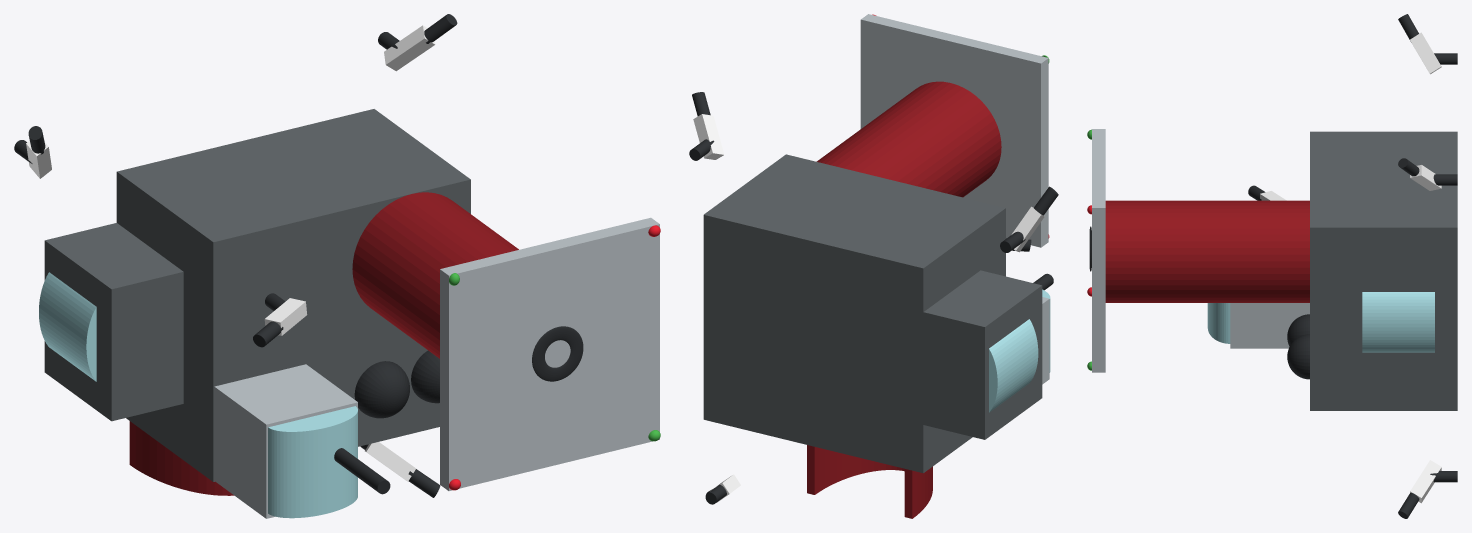
The model's file is tinker.obj.
3 views of the same model, side by side, from view 1: azimuth 30°, elevation 25°; view 2: azimuth 150°, elevation 25°; view 3: azimuth 270°, elevation 25° (orthographic). The views are drawn at different scales.
Visible parts, largest first — view 1: obj_0, obj_11, obj_8, obj_3, obj_4, obj_5, obj_9, obj_1, obj_18, obj_10, obj_16, obj_19 (+4 smaller); view 2: obj_0, obj_11, obj_8, obj_10, obj_3, obj_1, obj_9, obj_27, obj_4, obj_24; view 3: obj_0, obj_3, obj_10, obj_17, obj_11, obj_4, obj_5, obj_19, obj_21, obj_24, obj_18.
Part boxes in pixels (<box>): obj_0: <box>116,109,470,481</box>; obj_11: <box>440,217,659,490</box>; obj_8: <box>44,223,183,421</box>; obj_3: <box>352,192,517,356</box>; obj_4: <box>214,364,357,518</box>; obj_5: <box>268,406,357,518</box>; obj_9: <box>39,272,96,381</box>; obj_1: <box>129,421,233,495</box>; obj_18: <box>354,361,409,418</box>; obj_10: <box>419,241,518,358</box>; obj_16: <box>532,326,583,381</box>; obj_19: <box>411,350,439,403</box>; obj_0: <box>703,154,1005,473</box>; obj_11: <box>860,14,1048,247</box>; obj_8: <box>923,270,1042,439</box>; obj_10: <box>860,81,1001,197</box>; obj_3: <box>816,123,944,192</box>; obj_1: <box>807,445,932,518</box>; obj_9: <box>989,319,1038,412</box>; obj_27: <box>693,114,724,159</box>; obj_4: <box>1042,297,1049,384</box>; obj_24: <box>1011,206,1044,252</box>; obj_0: <box>1310,131,1457,410</box>; obj_3: <box>1207,200,1309,302</box>; obj_10: <box>1105,200,1207,302</box>; obj_17: <box>1362,292,1434,352</box>; obj_11: <box>1092,129,1105,372</box>; obj_4: <box>1230,303,1309,348</box>; obj_5: <box>1207,303,1230,343</box>; obj_19: <box>1287,334,1309,379</box>; obj_21: <box>1410,460,1441,503</box>; obj_24: <box>1410,32,1441,74</box>; obj_18: <box>1287,314,1309,346</box>.
Size of the model in its own units: 166 by 178 by 163.
